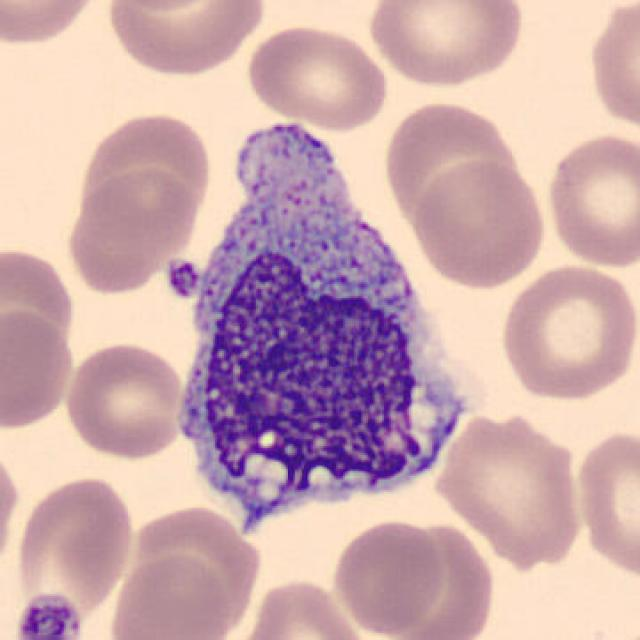Monocyte: (167, 115, 477, 548)
Platelets: (12, 590, 87, 640), (162, 256, 202, 302)
RBC: (432, 408, 587, 572), (494, 259, 638, 404), (11, 470, 137, 634), (379, 97, 519, 233), (409, 155, 549, 291), (73, 108, 215, 242), (62, 166, 201, 296), (244, 21, 391, 132), (60, 338, 188, 462), (364, 0, 530, 90), (369, 524, 496, 640), (540, 128, 638, 272), (329, 516, 446, 636), (103, 0, 269, 78), (106, 550, 235, 640), (570, 425, 640, 582), (0, 240, 80, 368), (0, 305, 78, 430), (233, 575, 371, 640), (584, 0, 638, 139), (0, 0, 106, 49), (0, 441, 23, 576), (105, 0, 258, 14)
